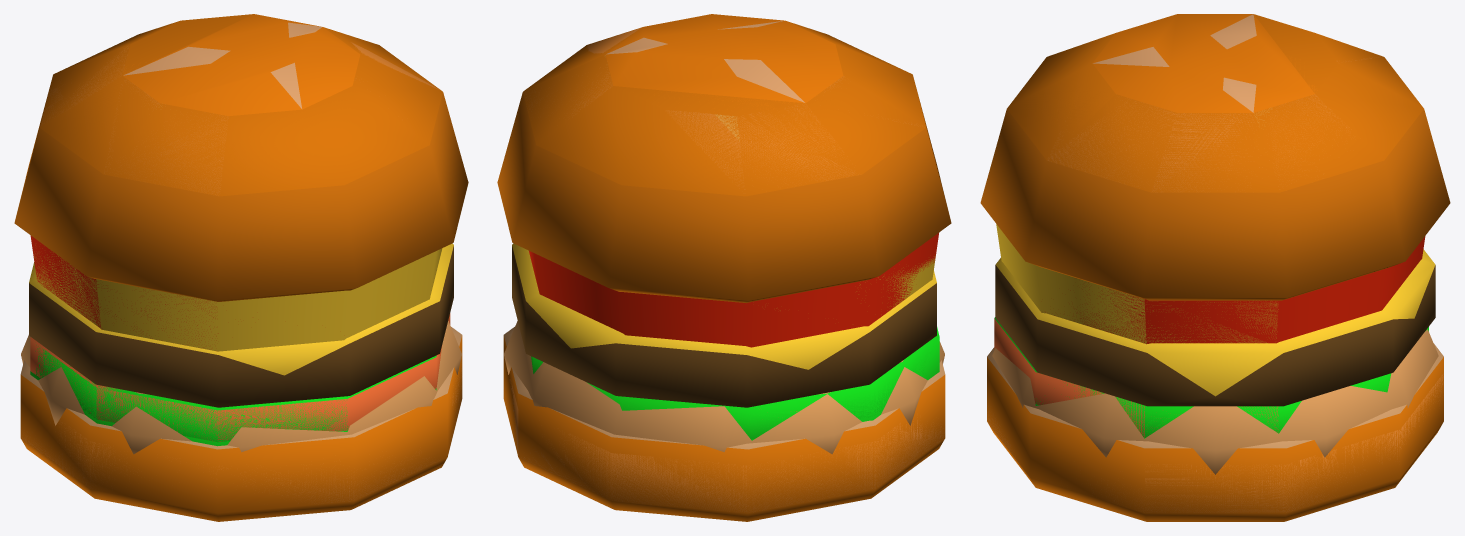
File: Burger1.fbx
3 views of the same model, side by side, from view 1: azimuth 30°, elevation 25°; view 2: azimuth 150°, elevation 25°; view 3: azimuth 270°, elevation 25° (orthographic).
Parts seen in each view (by area): view 1: Hamburger2, Hamburger1, donut_plane, Hamburger3; view 2: Hamburger1, Hamburger2, Hamburger3, donut_plane; view 3: Hamburger1, Hamburger2, donut_plane, Hamburger3.
Boxes of the visible parts, x1,y1,x2,y2 form: Hamburger2: (14,14,468,521); Hamburger1: (14,14,462,521); donut_plane: (21,321,461,454); Hamburger3: (21,42,462,504); Hamburger1: (497,14,951,521); Hamburger2: (503,21,949,521); Hamburger3: (506,27,945,512); donut_plane: (504,321,944,454); Hamburger1: (987,14,1450,521); Hamburger2: (980,14,1443,520); donut_plane: (992,329,1438,474); Hamburger3: (987,56,1443,512).
Bounding box in the file's own units: 43.54 × 41.39 × 45.78.
2 materials, 2 textured.
